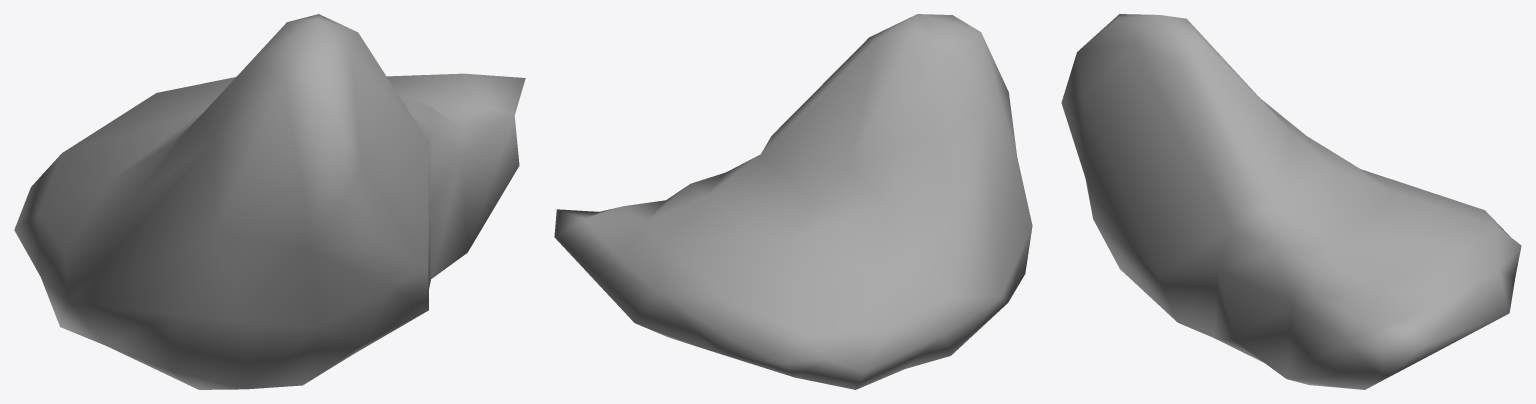
The model's file is SoftRock_11.fbx.
3 views of the same model, side by side, from view 1: azimuth 30°, elevation 25°; view 2: azimuth 150°, elevation 25°; view 3: azimuth 270°, elevation 25° (orthographic). The views are drawn at different scales.
Visible parts, largest first — view 1: SoftRock_11; view 2: SoftRock_11; view 3: SoftRock_11.
Boxes of the visible parts, x1=… form: SoftRock_11: x1=14, y1=14, x2=525, y2=389; SoftRock_11: x1=554, y1=14, x2=1032, y2=389; SoftRock_11: x1=1061, y1=14, x2=1521, y2=389.
Bounding box in the file's own units: 101 × 68.66 × 95.89.
